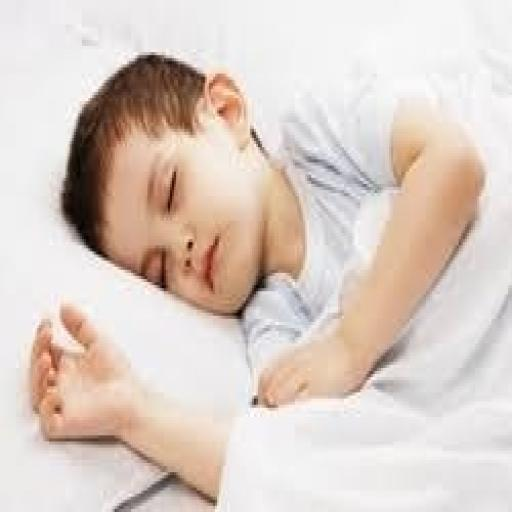sleeping: (49, 46, 490, 414)
